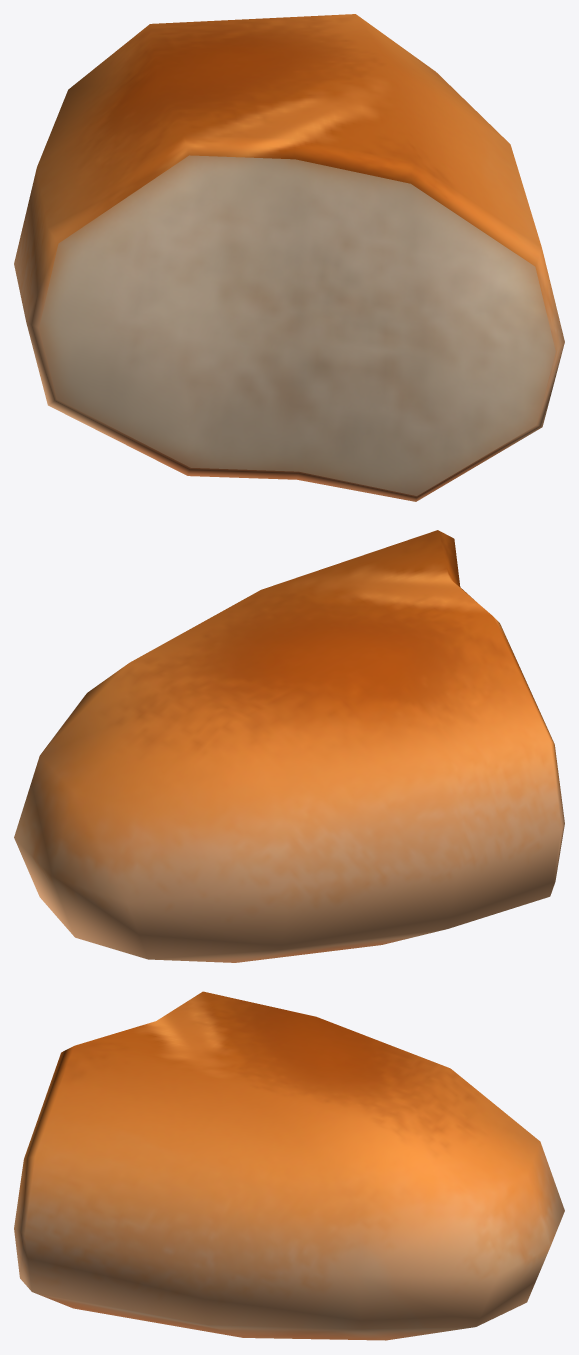
The model's file is French_Broken_1.fbx.
3 renders of one model, top to bottom at view 1: azimuth 30°, elevation 25°; view 2: azimuth 150°, elevation 25°; view 3: azimuth 270°, elevation 25°, orthographic. The views are drawn at different scales.
Visible parts, largest first — view 1: French_Broken_1; view 2: French_Broken_1; view 3: French_Broken_1.
Boxes of the visible parts, bbox=[...] form: French_Broken_1: bbox=[14, 14, 564, 501]; French_Broken_1: bbox=[14, 530, 564, 962]; French_Broken_1: bbox=[14, 991, 564, 1340].
Bounding box in the file's own units: 25.45 × 16.89 × 32.19.
